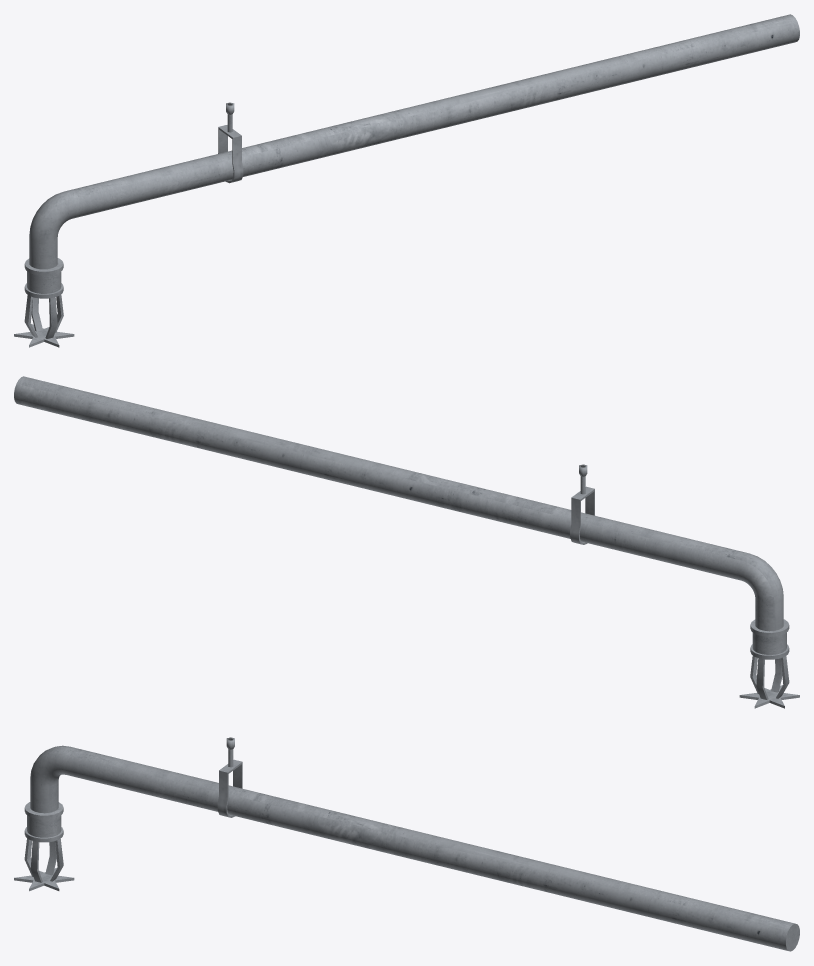
File: Prop_Fire_Detector_x2.fbx
3 views of the same model, one above another, from view 1: azimuth 30°, elevation 25°; view 2: azimuth 150°, elevation 25°; view 3: azimuth 330°, elevation 25° (orthographic).
Visible parts, largest first — view 1: Prop_Fire_Detector_x2; view 2: Prop_Fire_Detector_x2; view 3: Prop_Fire_Detector_x2.
Part boxes in pixels (x1,y1,x2,y2): Prop_Fire_Detector_x2: (14,14,799,347); Prop_Fire_Detector_x2: (14,376,799,708); Prop_Fire_Detector_x2: (14,737,799,951).
Bounding box in the file's own units: 128 × 29.54 × 8.69.
